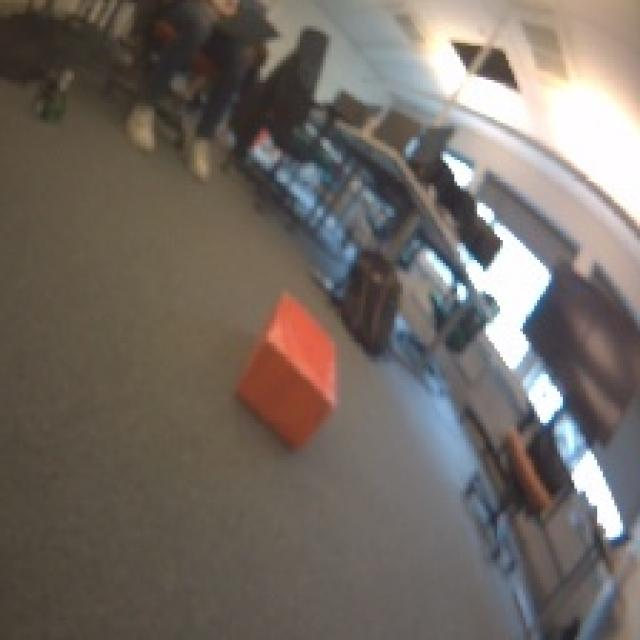robot: (26, 77, 73, 130)
target: (231, 288, 340, 452)
